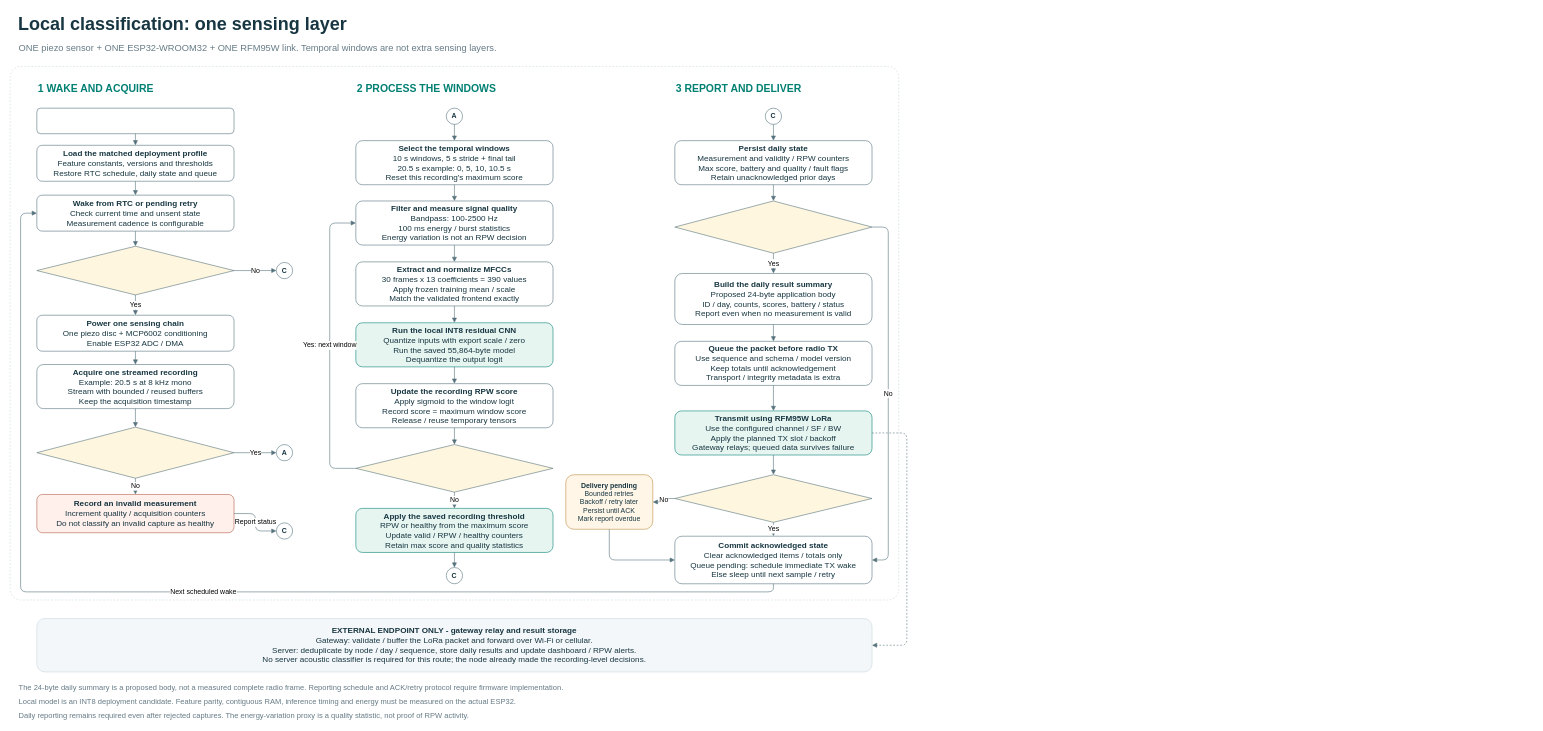
Image size: 1543x731. Some labels were removed from this diagram. The shapes that lost their labels are listed below. From the top down, each one's centre as x and y in pixels, then its label:
At [135,121]: "BOOT / INITIALIZE".
At [773,226]: "Report or retry due? At least one report each day".
At [135,270]: "Measurement due?".
At [135,452]: "Acquisition valid? ADC / clipping / data checks".
At [454,468]: "More windows?".
At [773,498]: "Application ACK received?".
